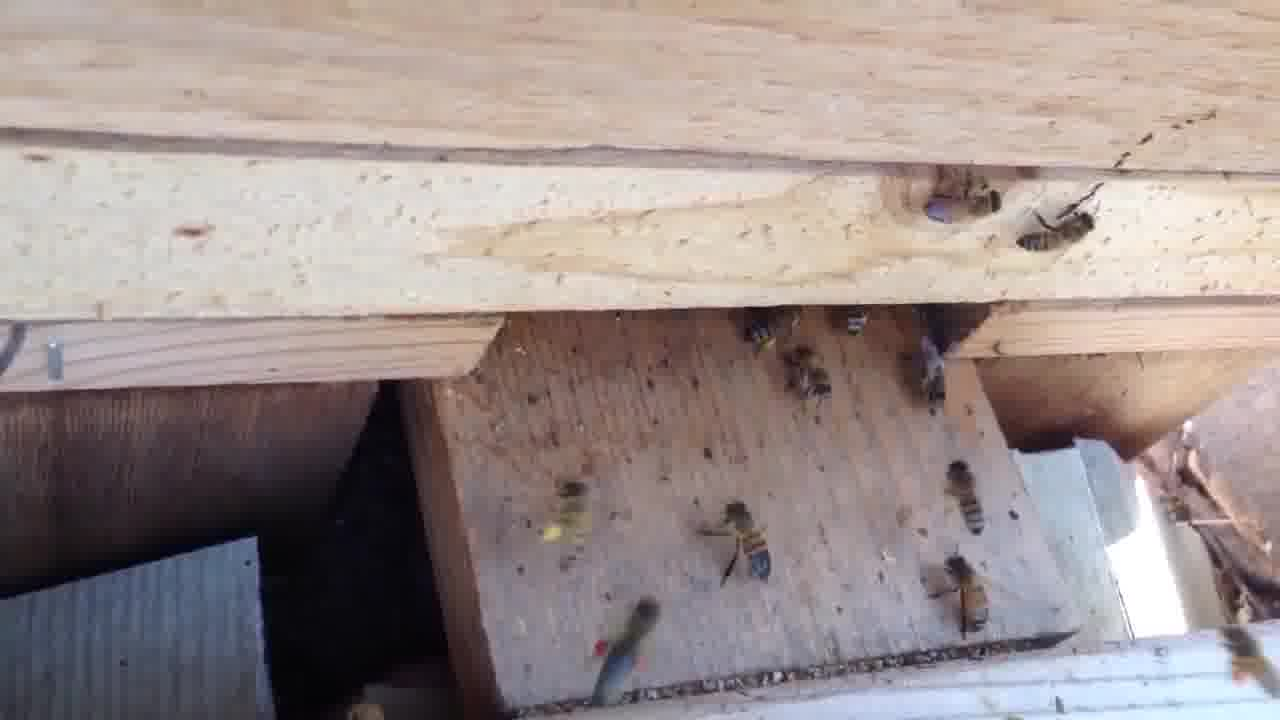pollen: (545, 483, 601, 579), (1215, 622, 1280, 699)
